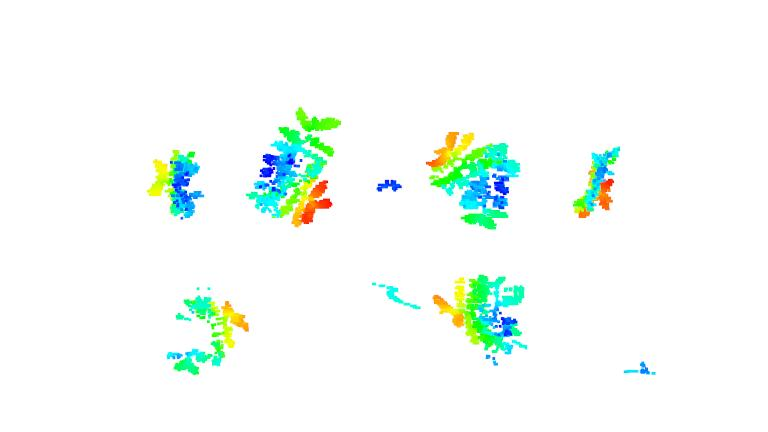chickpea: (244, 106, 344, 230), (430, 130, 520, 230), (432, 272, 529, 357), (166, 293, 251, 377), (146, 149, 210, 219), (572, 145, 624, 221)
